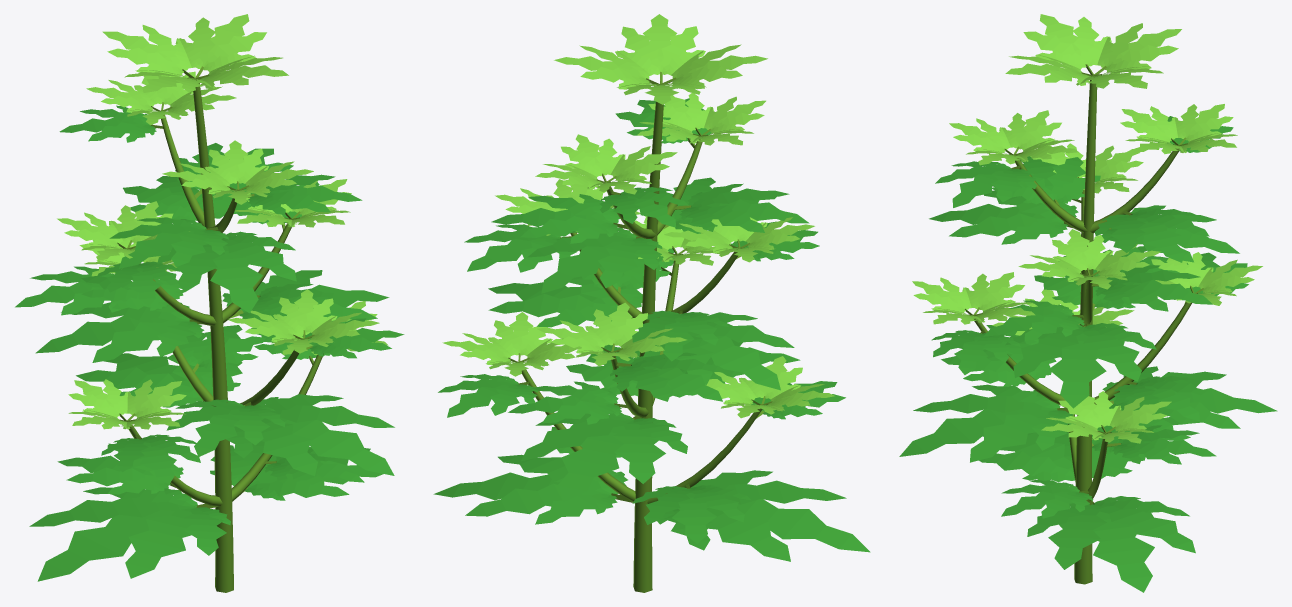
The model's file is Weed_Plant_S2_Young.glb.
3 views of the same model, side by side, from view 1: azimuth 30°, elevation 25°; view 2: azimuth 150°, elevation 25°; view 3: azimuth 270°, elevation 25° (orthographic). The views are drawn at different scales.
Visible parts, largest first — view 1: Weed_Plant_S2_Young_Plant; view 2: Weed_Plant_S2_Young_Plant; view 3: Weed_Plant_S2_Young_Plant.
Part boxes in pixels (left/top/right/bottom): Weed_Plant_S2_Young_Plant: left=15, top=14, right=404, bottom=592; Weed_Plant_S2_Young_Plant: left=433, top=14, right=870, bottom=592; Weed_Plant_S2_Young_Plant: left=899, top=14, right=1277, bottom=592.
Bounding box in the file's own units: 0.3847 × 0.5131 × 0.3401.
